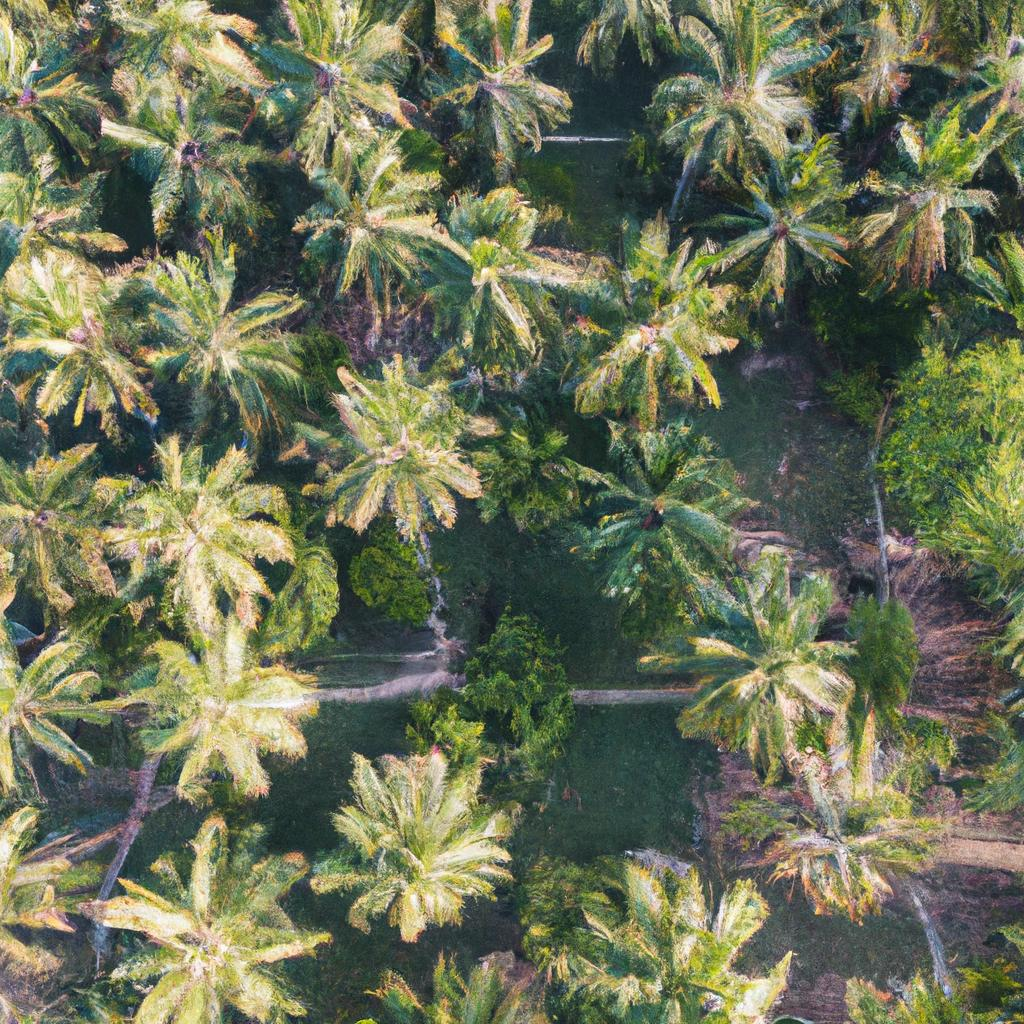coconut_tree: (79, 824, 336, 1023), (666, 516, 859, 764), (330, 721, 525, 948), (308, 347, 498, 558), (0, 235, 212, 423), (128, 247, 338, 423), (555, 216, 735, 420), (125, 629, 333, 805), (633, 10, 835, 177), (119, 440, 305, 621), (256, 150, 447, 290), (441, 4, 603, 169), (268, 4, 417, 164), (119, 1, 247, 118)
